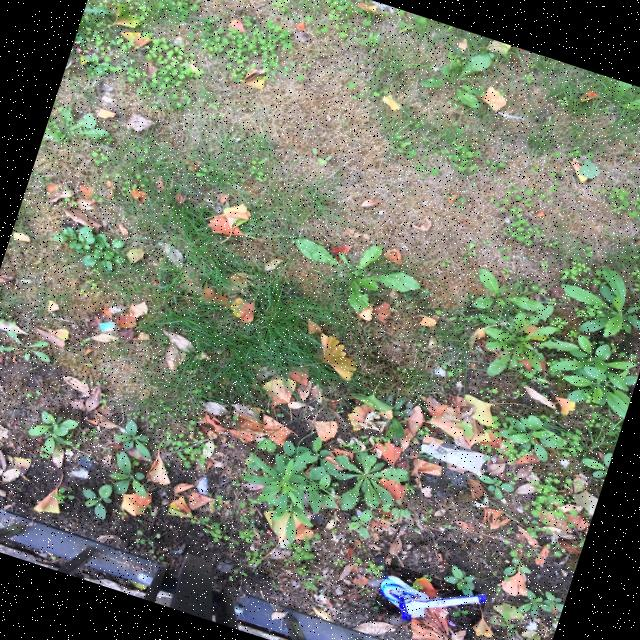Other carton: (99, 323, 114, 333)
Other plastic: (379, 577, 486, 620)
Unlabeled litter: (422, 442, 487, 479)
